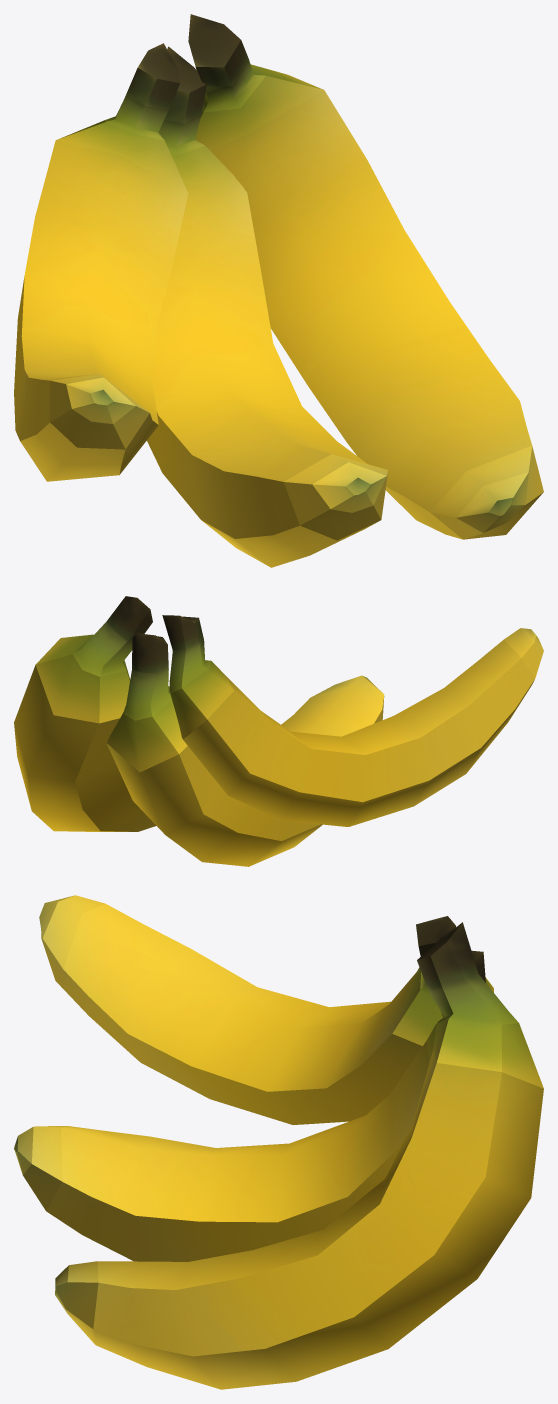
The model's file is Banana_Final.fbx.
3 views of the same model, one above another, from view 1: azimuth 30°, elevation 25°; view 2: azimuth 150°, elevation 25°; view 3: azimuth 270°, elevation 25° (orthographic). The views are drawn at different scales.
Parts seen in each view (by area): view 1: B2, B3, B1; view 2: B1, B3, B2; view 3: B2, B1, B3.
Boxes of the visible parts, x1=… form: B2: x1=188, y1=14, x2=543, y2=539; B3: x1=147, y1=46, x2=388, y2=567; B1: x1=14, y1=43, x2=188, y2=481; B1: x1=162, y1=615, x2=543, y2=826; B3: x1=107, y1=633, x2=384, y2=866; B2: x1=14, y1=596, x2=156, y2=831; B2: x1=55, y1=922, x2=543, y2=1389; B1: x1=39, y1=895, x2=493, y2=1124; B3: x1=14, y1=950, x2=485, y2=1261.
Size of the model in its own units: 11.77 by 9.09 by 10.84.
1 material, 1 textured.
